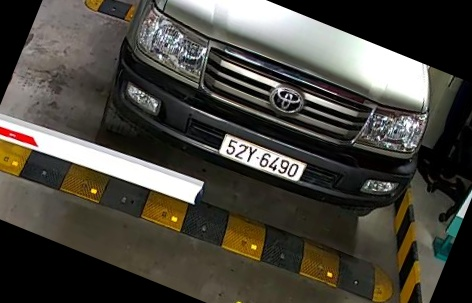plate: (211, 133, 312, 187)
